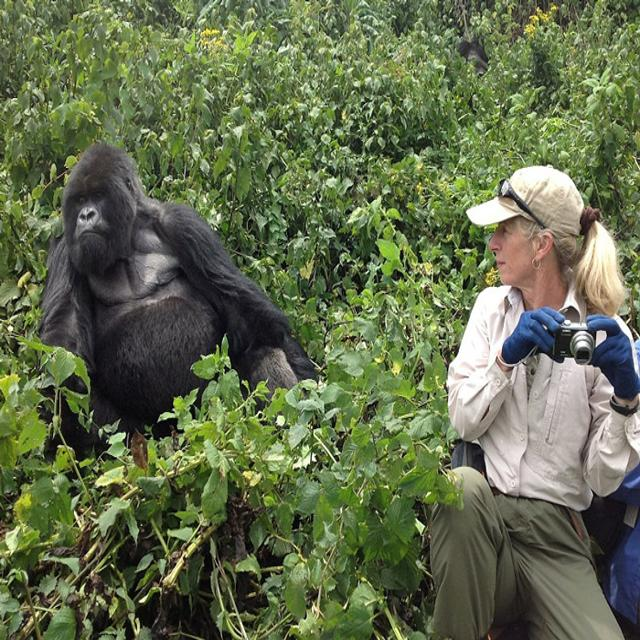poacher: (353, 135, 640, 640)
